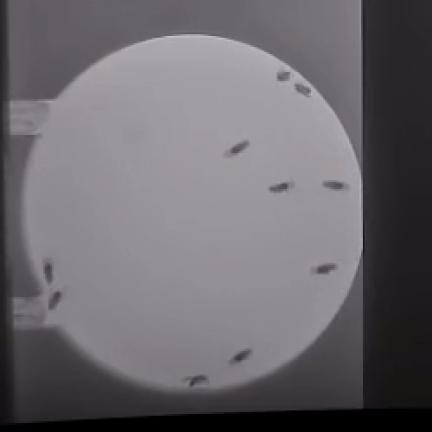fly: (225, 141, 250, 158), (230, 348, 252, 365), (313, 263, 336, 275), (184, 375, 209, 386), (324, 180, 349, 190), (270, 182, 293, 192), (296, 83, 312, 97), (49, 292, 62, 309), (44, 260, 53, 284), (277, 71, 292, 82)
